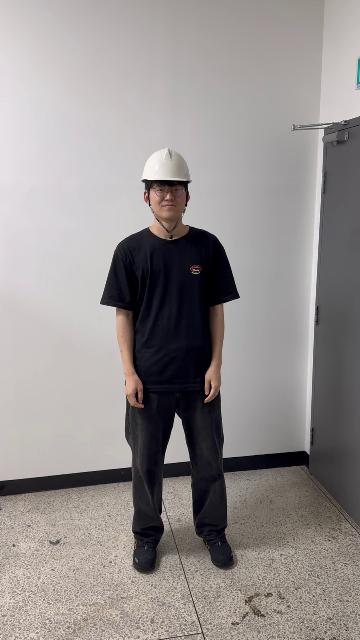helmet_worn: (140, 146, 193, 184)
shoe_worn: (202, 533, 234, 568), (132, 540, 157, 572)
vest_not_worn: (122, 229, 222, 416)
